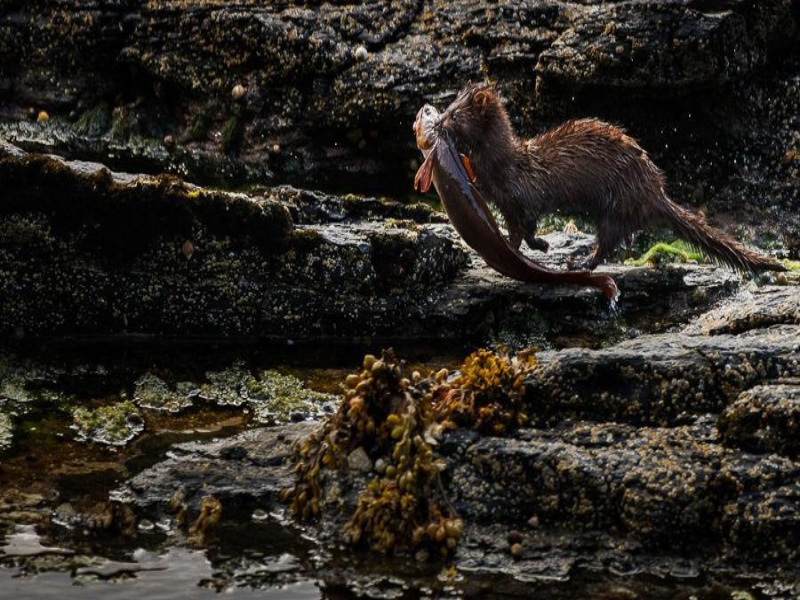minkish: (430, 83, 790, 278)
